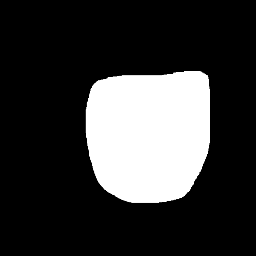mass: (89, 64, 207, 200)
